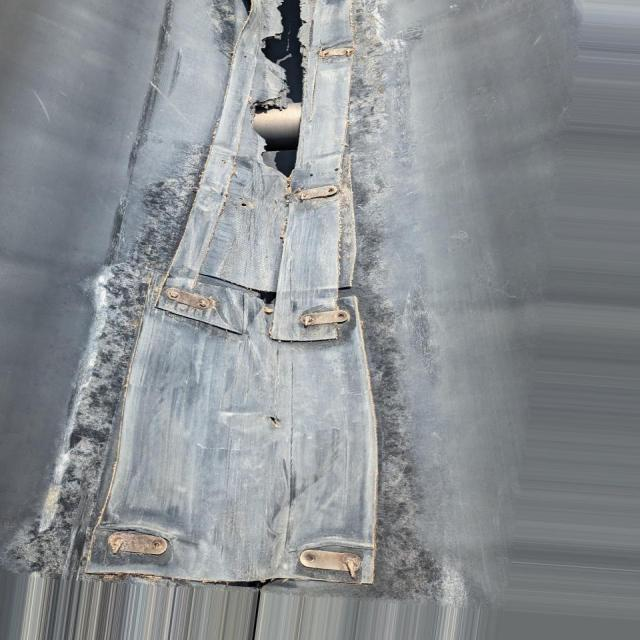Hole: (255, 0, 315, 188)
